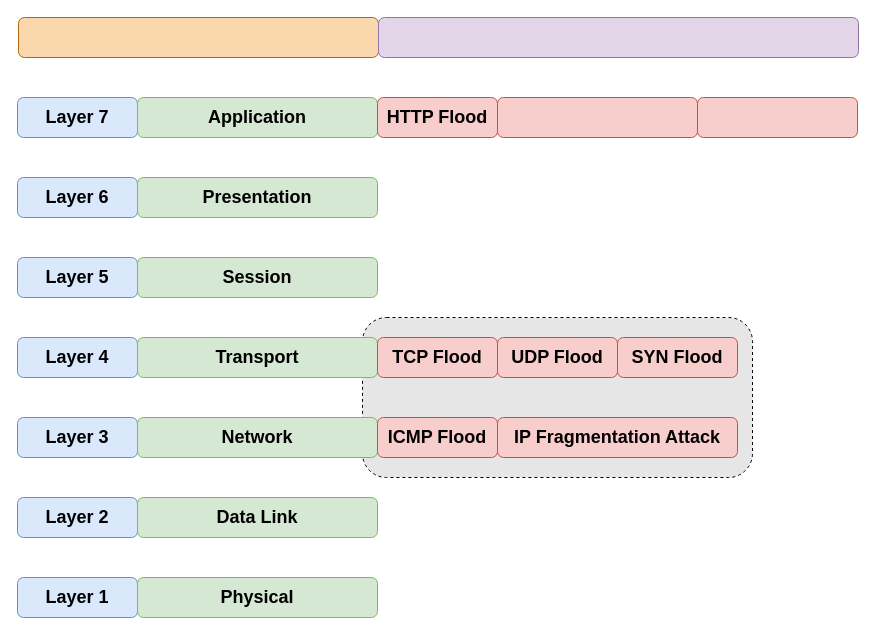
This 876x635 diagram has some shape labels left out. The shapes that lost their labels are listed below. From the top down, each one's centre as x and y in pixels, then its label:
At pixel 198 37: "OSI 7 Layer".
At pixel 618 37: "OSI Layer Attack".
At pixel 597 117: "Slow HTTP Attack".
At pixel 777 117: "HTTP Smurf".
